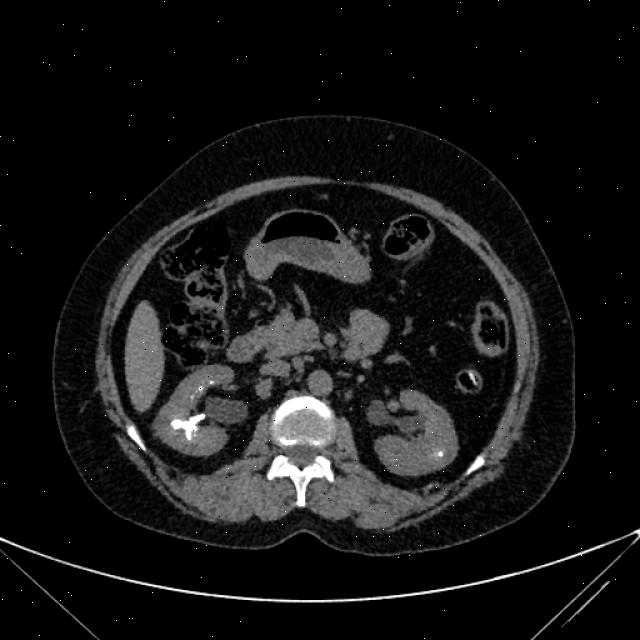kidneystone: (170, 414, 206, 441), (196, 385, 205, 391), (438, 450, 442, 457)
